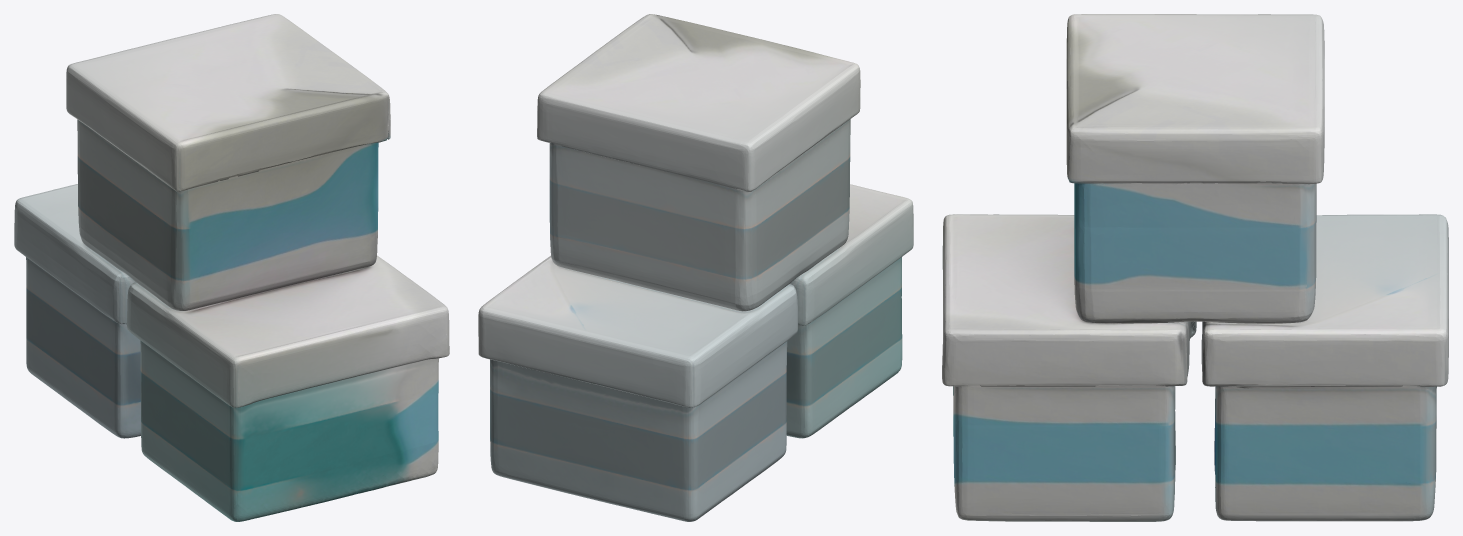
File: paper_boxes.glb
3 renders of one model, left to right at view 1: azimuth 30°, elevation 25°; view 2: azimuth 150°, elevation 25°; view 3: azimuth 270°, elevation 25°, orthographic. The views are drawn at different scales.
Visible parts, largest first — view 1: geometry_0; view 2: geometry_0; view 3: geometry_0.
Part boxes in pixels (<box>): geometry_0: <box>14,14,449,521</box>; geometry_0: <box>478,14,913,521</box>; geometry_0: <box>942,14,1448,521</box>.
Size of the model in its own units: 0.5736 by 0.8612 by 0.9982.
1 material, 1 textured.
